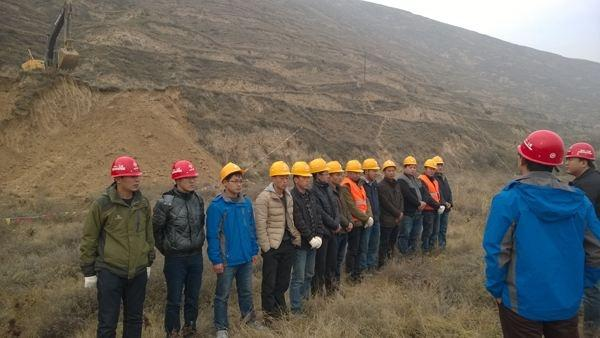Helmet: (220, 162, 246, 195), (270, 160, 290, 189)
